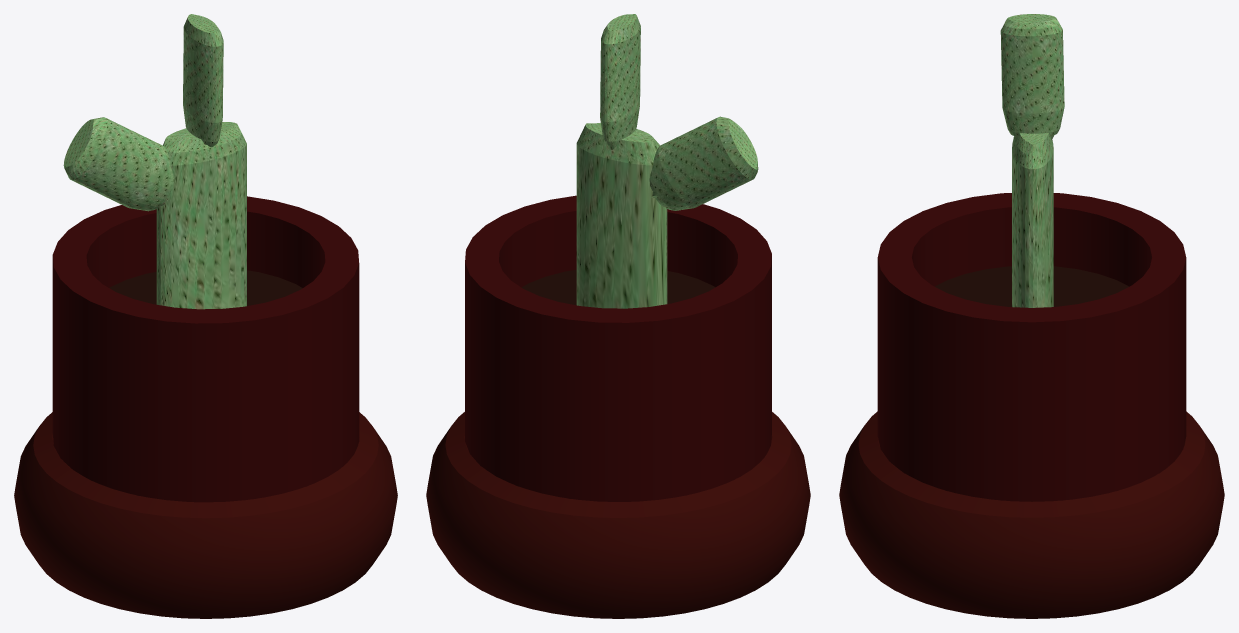
The model's file is Potted Plant .fbx.
The picture shows the model from 3 angles, left to right: view 1: azimuth 30°, elevation 25°; view 2: azimuth 150°, elevation 25°; view 3: azimuth 270°, elevation 25°; orthographic projection.
Visible parts, largest first — view 1: Cylinder, Torus.002, Cylinder.002, Cylinder.003, Cylinder.004, Cylinder.001; view 2: Cylinder, Torus.002, Cylinder.002, Cylinder.003, Cylinder.004, Cylinder.001; view 3: Cylinder, Torus.002, Cylinder.002, Cylinder.004, Cylinder.001.
Part boxes in pixels (x1=…): Cylinder: x1=52, y1=196, x2=359, y2=502; Torus.002: x1=14, y1=412, x2=397, y2=618; Cylinder.002: x1=156, y1=122, x2=246, y2=309; Cylinder.003: x1=63, y1=117, x2=173, y2=211; Cylinder.004: x1=183, y1=14, x2=223, y2=147; Cylinder.001: x1=109, y1=270, x2=302, y2=305; Cylinder: x1=465, y1=195, x2=771, y2=501; Torus.002: x1=426, y1=412, x2=810, y2=618; Cylinder.002: x1=576, y1=123, x2=667, y2=308; Cylinder.003: x1=649, y1=116, x2=758, y2=210; Cylinder.004: x1=600, y1=14, x2=640, y2=149; Cylinder.001: x1=521, y1=269, x2=715, y2=305; Cylinder: x1=877, y1=193, x2=1186, y2=501; Torus.002: x1=839, y1=411, x2=1224, y2=618; Cylinder.002: x1=1012, y1=133, x2=1053, y2=307; Cylinder.004: x1=1000, y1=14, x2=1064, y2=139; Cylinder.001: x1=935, y1=266, x2=1128, y2=306.
Size of the model in its own units: 250 by 382 by 250.
